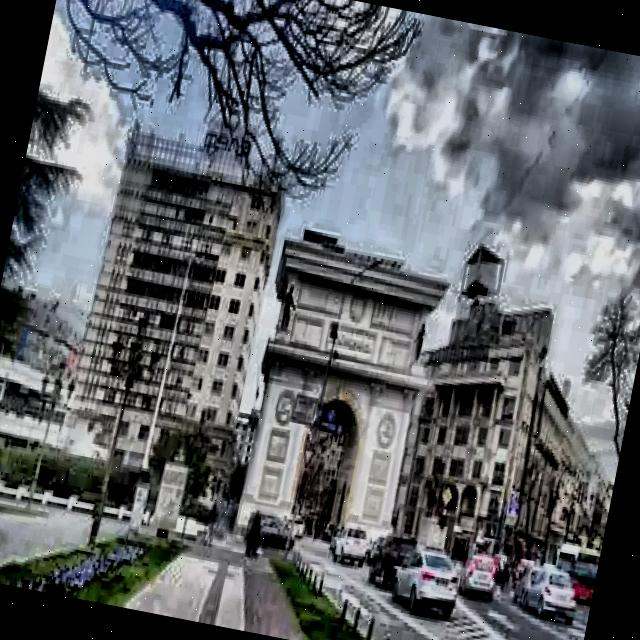triumphal arch: (233, 223, 467, 566)
